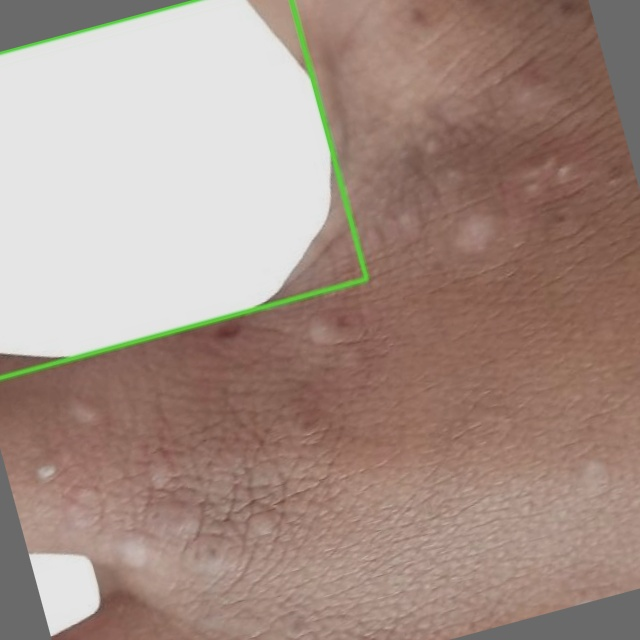Scabies: (0, 0, 366, 377)
